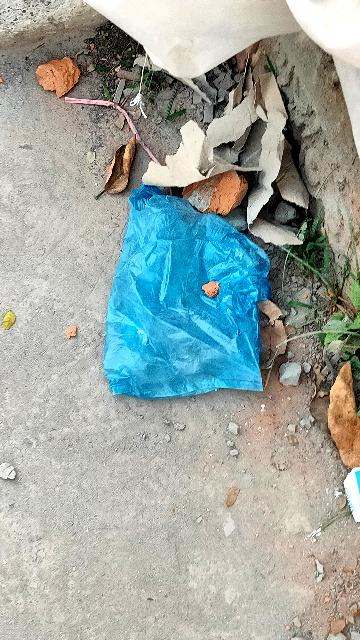polythene: (94, 189, 274, 402)
